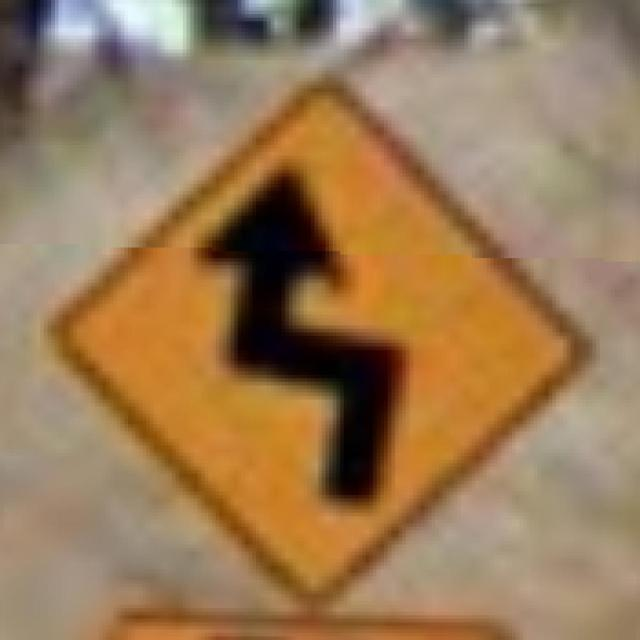Tikungan Ganda Pertama Ke Kiri: (33, 60, 593, 601)
